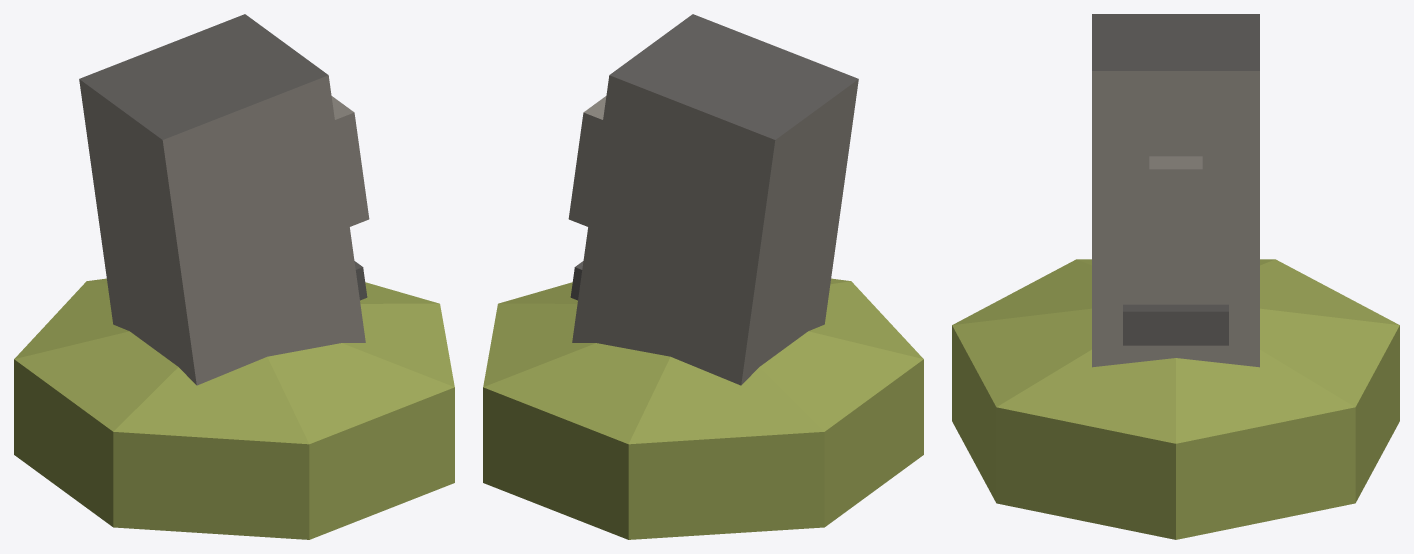
File: moai_cantera.obj
3 views of the same model, side by side, from view 1: azimuth 30°, elevation 25°; view 2: azimuth 150°, elevation 25°; view 3: azimuth 270°, elevation 25° (orthographic).
Parts seen in each view (by area): view 1: moai_cantera; view 2: moai_cantera; view 3: moai_cantera.
Part boxes in pixels (x1=…): moai_cantera: x1=14, y1=14, x2=454, y2=539; moai_cantera: x1=483, y1=14, x2=923, y2=539; moai_cantera: x1=952, y1=14, x2=1399, y2=539.
Bounding box in the file's own units: 4.94 × 5.52 × 5.07.
